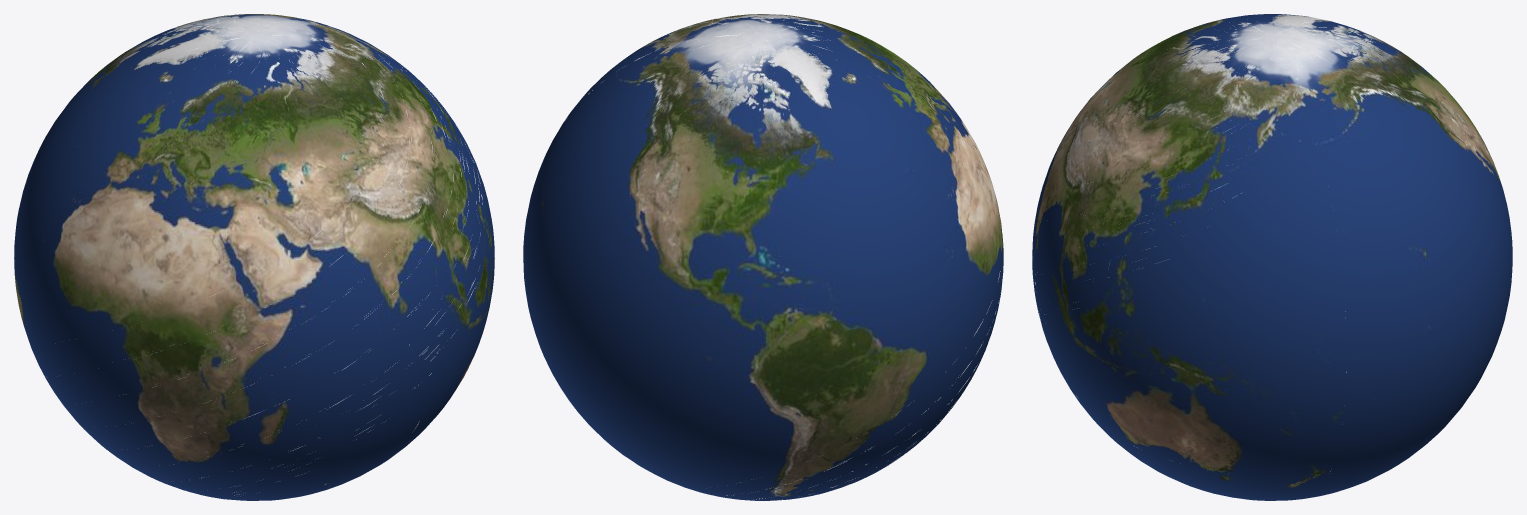
File: earth-low.glb
3 renders of one model, left to right at view 1: azimuth 30°, elevation 25°; view 2: azimuth 150°, elevation 25°; view 3: azimuth 270°, elevation 25°, orthographic.
Parts seen in each view (by area): view 1: pSphere1_phong1_0 (×2); view 2: pSphere1_phong1_0 (×2); view 3: pSphere1_phong1_0 (×2).
Part boxes in pixels (left/top/right/bottom): pSphere1_phong1_0 (×2): left=14, top=14, right=494, bottom=500; pSphere1_phong1_0 (×2): left=523, top=14, right=1003, bottom=500; pSphere1_phong1_0 (×2): left=1032, top=14, right=1512, bottom=500.
Size of the model in its own units: 1.96 by 2 by 1.96.
Materials: 1 (1 with a texture image).
